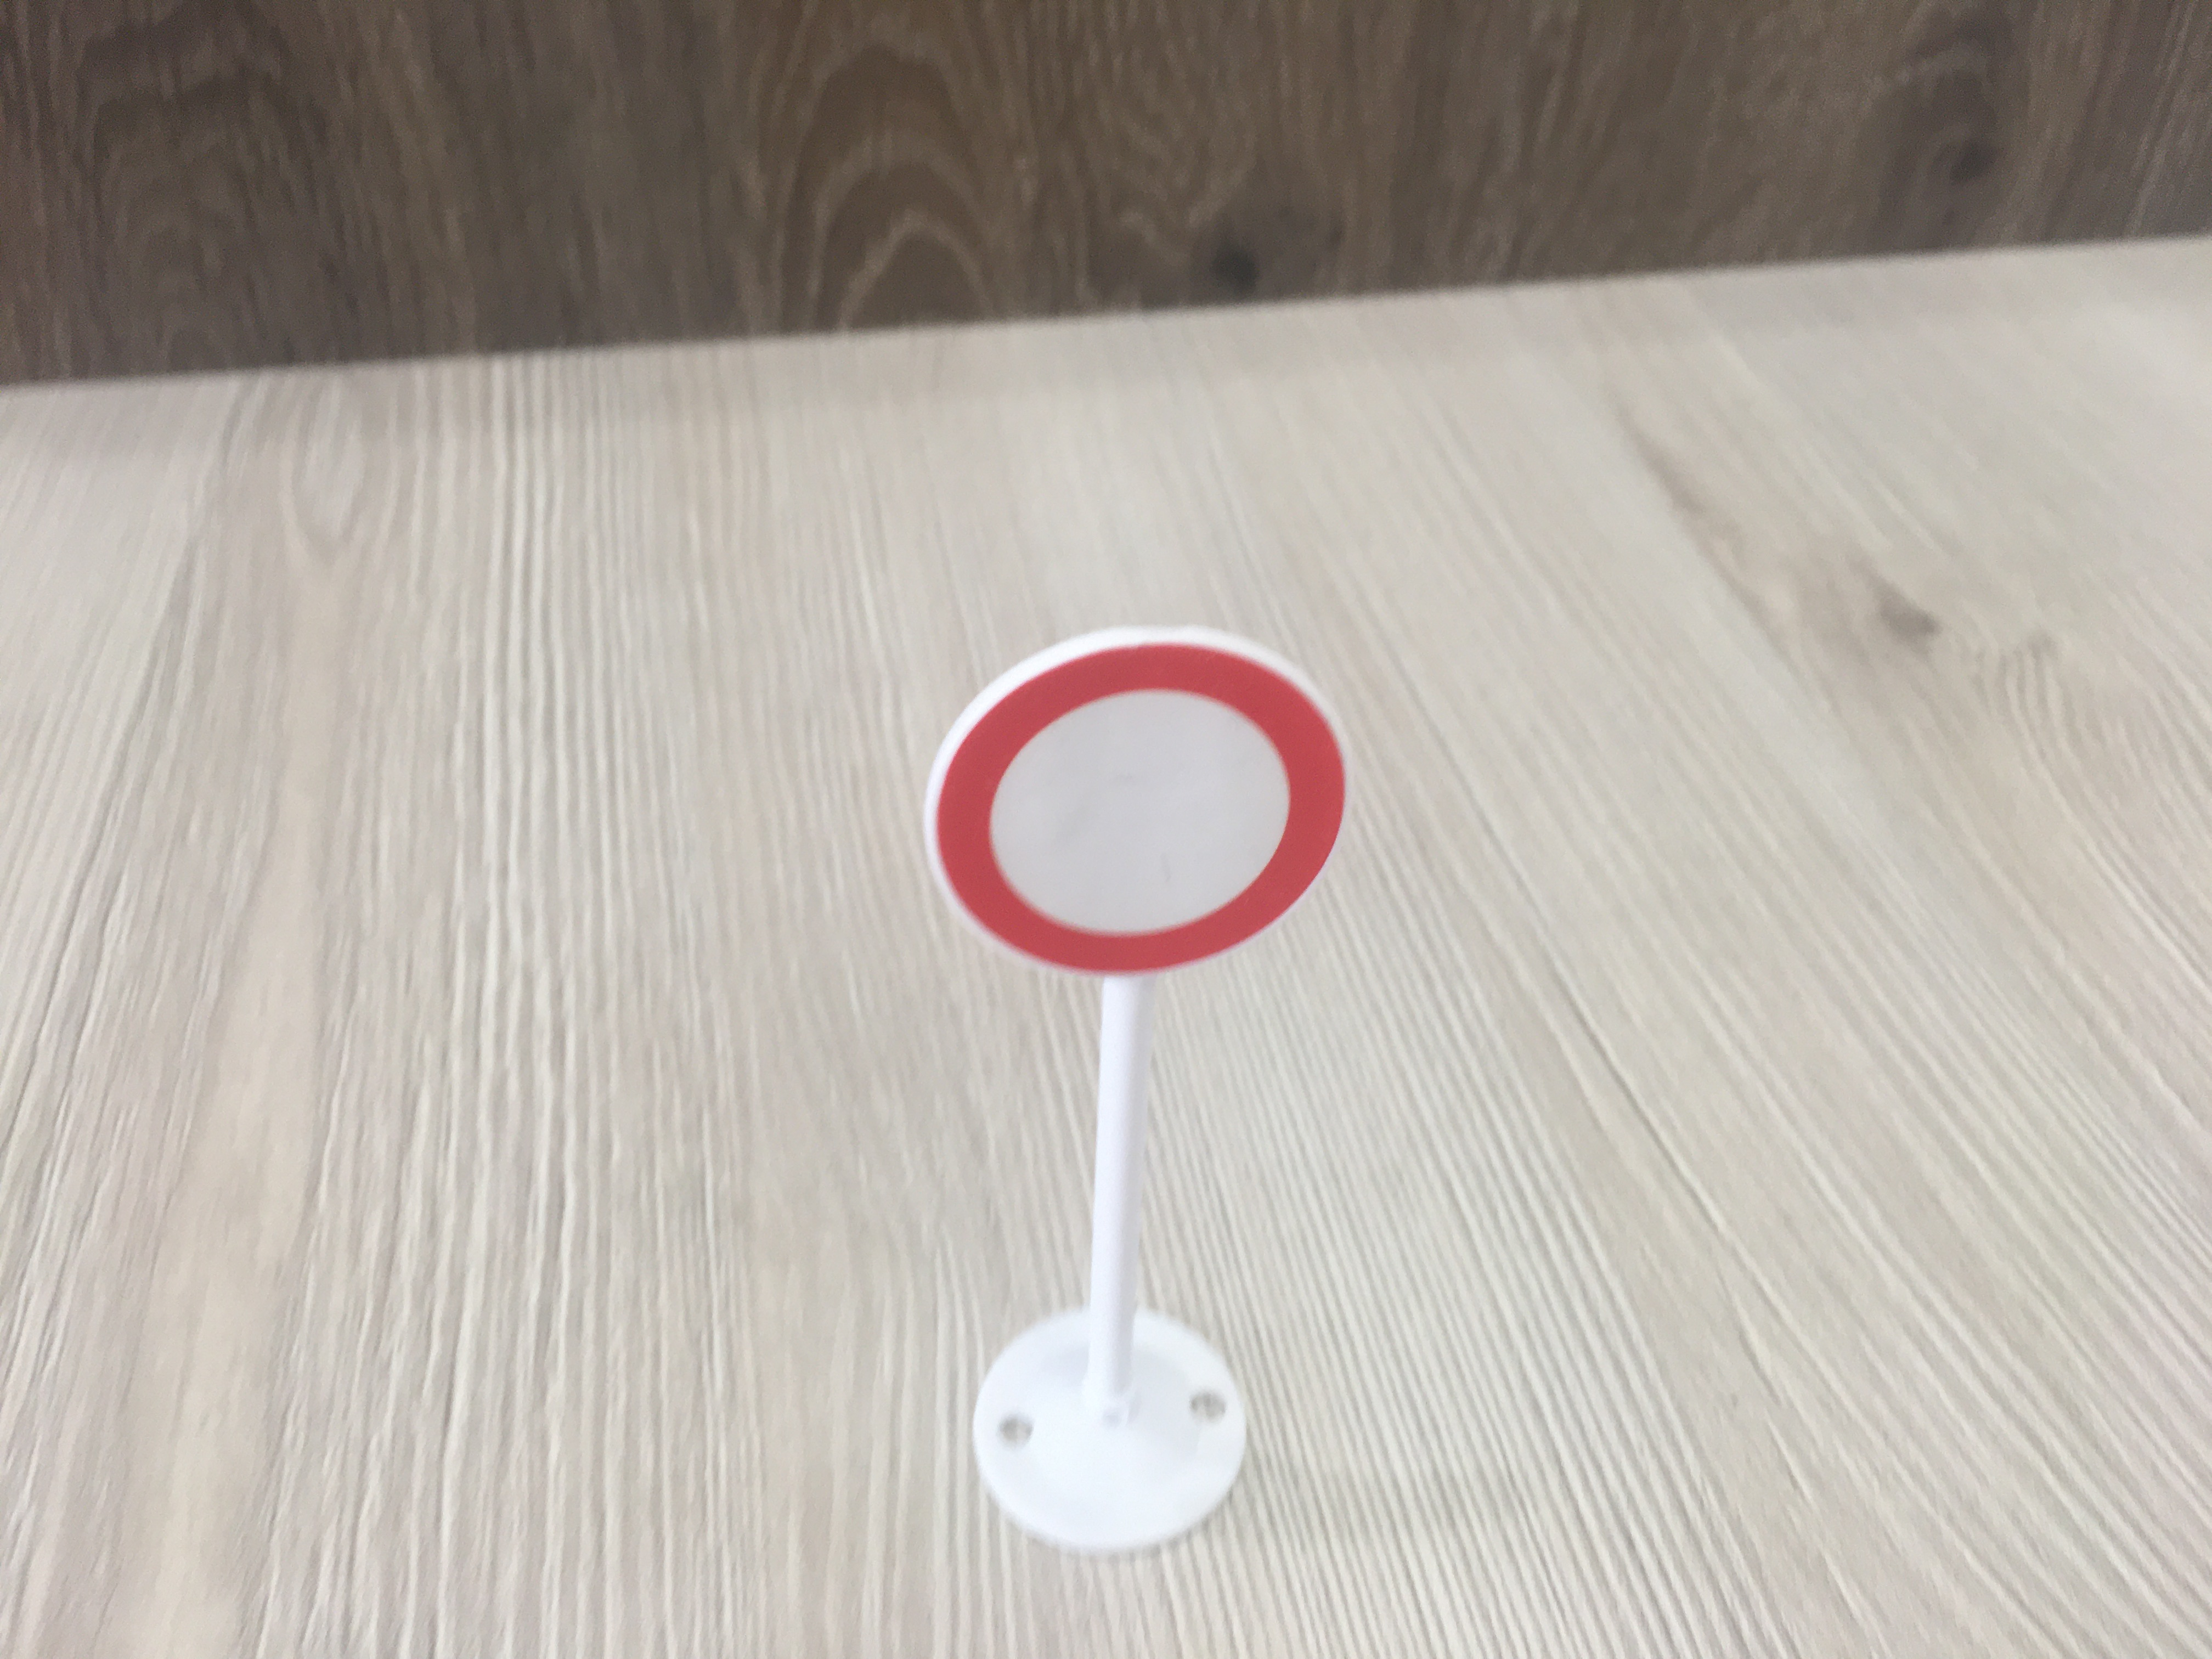noDrive: (920, 627, 1352, 983)
